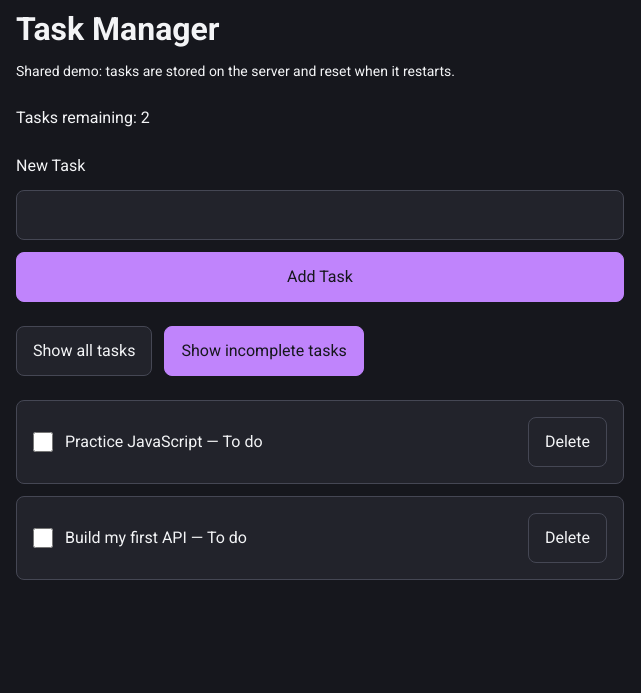
it: adds a task with Enter
This screenshot has width=641, height=693.
Type "Use the API" into the field. click: point(320, 215)
box: [16,190,624,240]
Then press Enter
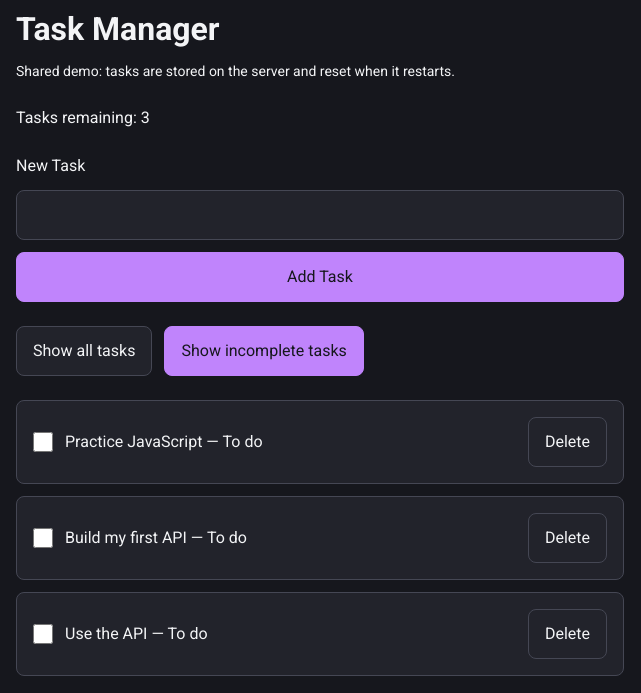
expect the checkbox named "Use the API" is shown: met, box [33,624,53,644]
